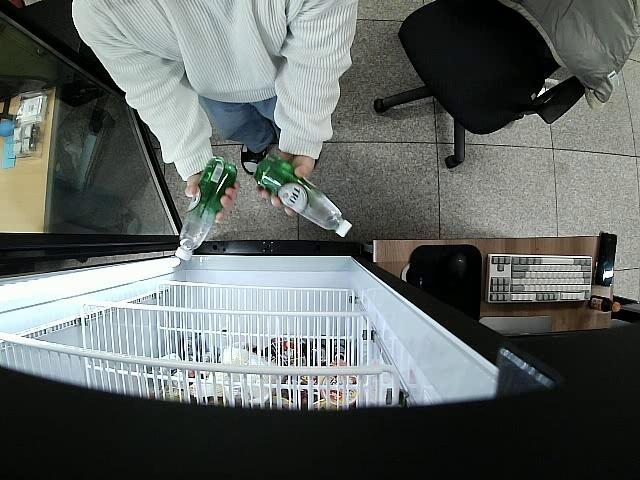18_trevi: (255, 152, 353, 240), (174, 156, 238, 262)
